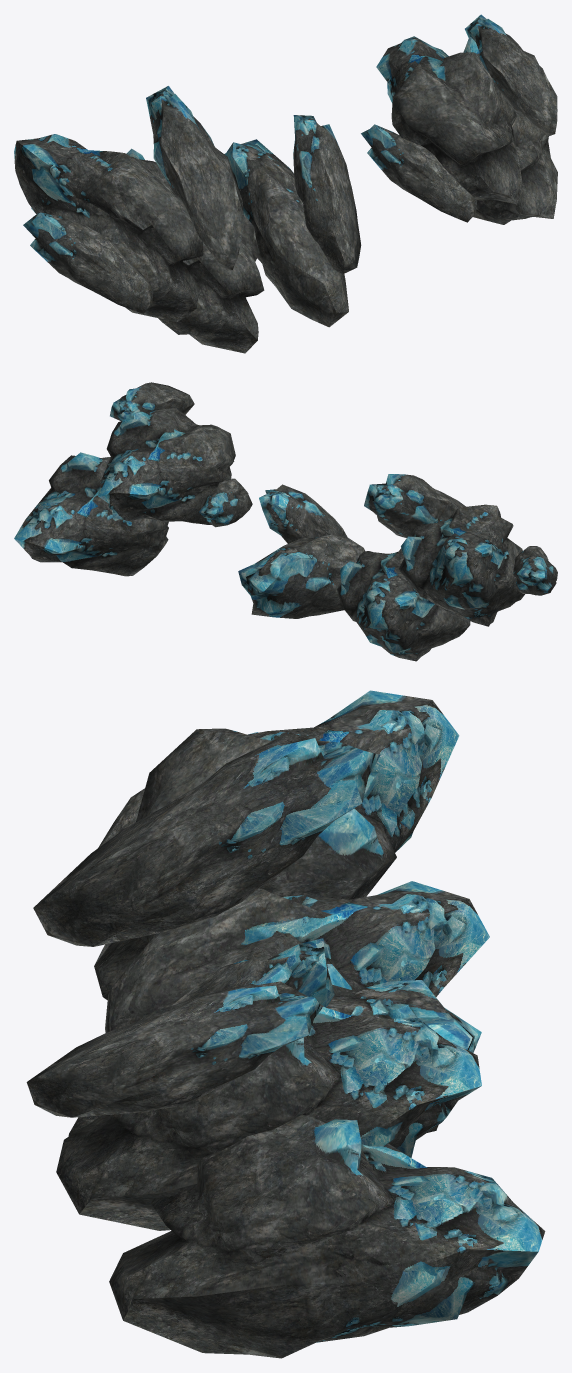
File: shuijing001.FBX
3 views of the same model, one above another, from view 1: azimuth 30°, elevation 25°; view 2: azimuth 150°, elevation 25°; view 3: azimuth 270°, elevation 25° (orthographic). The views are drawn at different scales.
Visible parts, largest first — view 1: Stone_001_09; view 2: Stone_001_09; view 3: Stone_001_09.
Boxes of the visible parts, left/top/right/bottom form: Stone_001_09: left=14, top=14, right=557, bottom=353; Stone_001_09: left=14, top=382, right=557, bottom=661; Stone_001_09: left=26, top=690, right=545, bottom=1358.
Bounding box in the file's own units: 668 × 278 × 314.
Materials: 1 (1 with a texture image).
